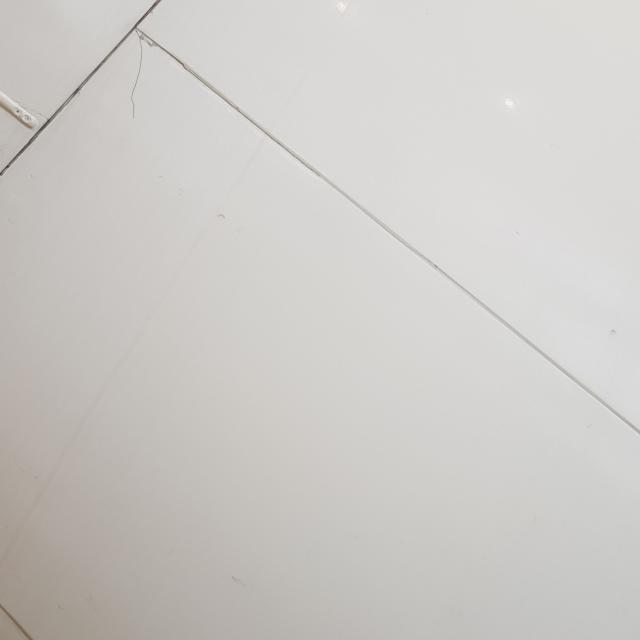Crack: (128, 32, 156, 128)
